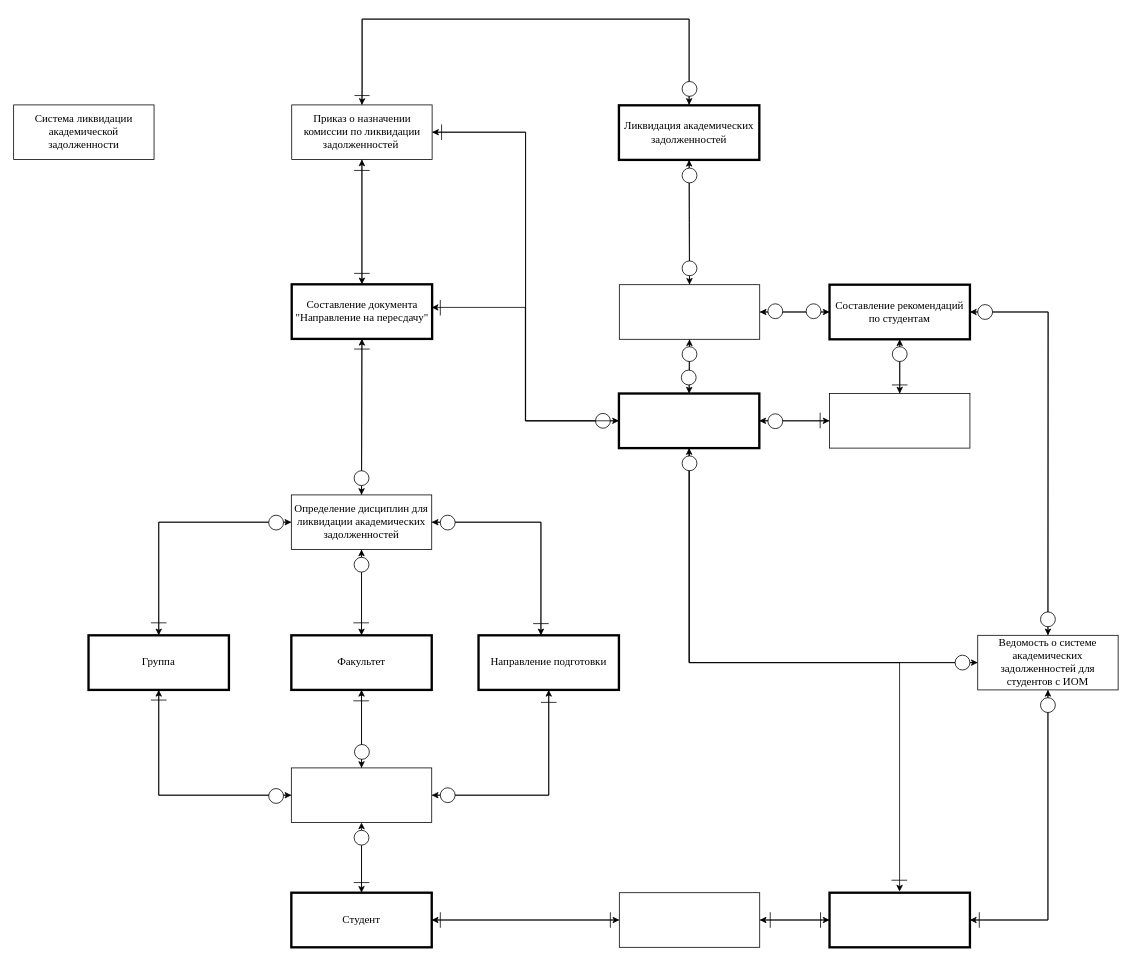
Image size: 1132x962. Some labels were removed from this diagram. Each missing label, with the centre of its shape:
Ведомость о системе академической задолженности: point (689, 311)
Заявление на продление сроков ликвидации задолженности: point (689, 919)
Идентификация академических задолженностей: point (361, 795)
Протокол заседания комиссии: point (899, 420)
Составление документа "Индивидуальный план ликвидации задолженностей": point (899, 919)
Сотрудник: point (688, 420)
